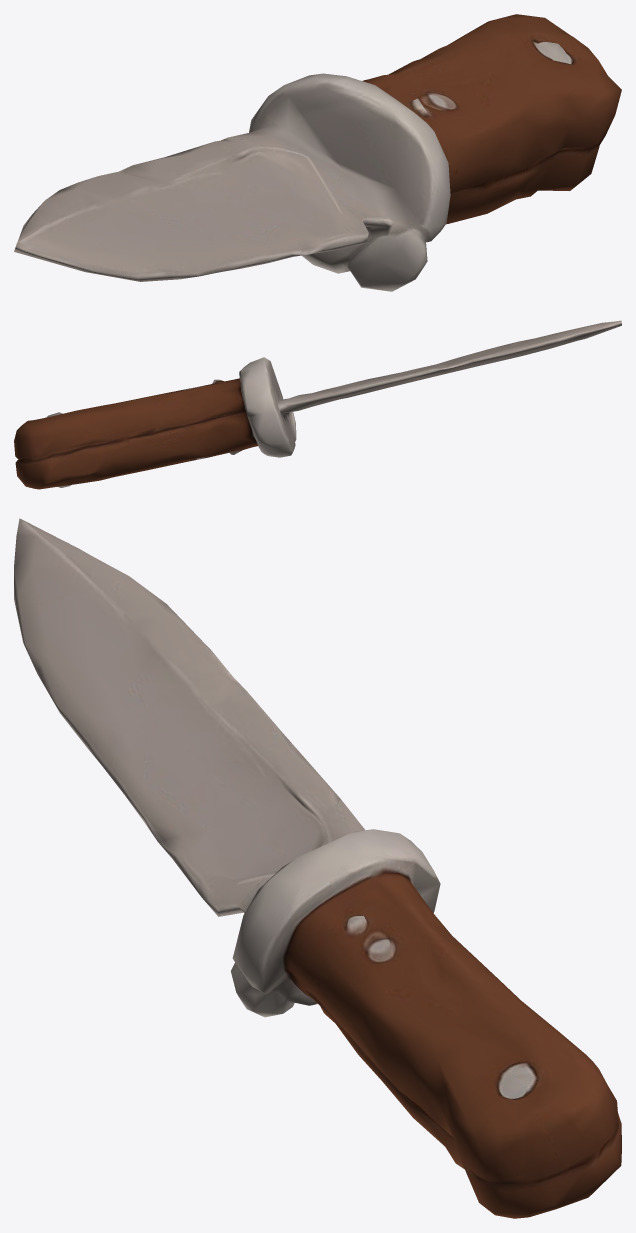
Rendered from knife.glb.
The picture shows the model from 3 angles, top to bottom: view 1: azimuth 30°, elevation 25°; view 2: azimuth 150°, elevation 25°; view 3: azimuth 270°, elevation 25°; orthographic projection. The views are drawn at different scales.
Visible parts, largest first — view 1: tripo_node_389072fd-8961-4271-b918-5e620998d5a2; view 2: tripo_node_389072fd-8961-4271-b918-5e620998d5a2; view 3: tripo_node_389072fd-8961-4271-b918-5e620998d5a2.
Boxes of the visible parts, box(x1,y1,x2,y2) form: tripo_node_389072fd-8961-4271-b918-5e620998d5a2: box(14, 14, 621, 291); tripo_node_389072fd-8961-4271-b918-5e620998d5a2: box(14, 320, 621, 489); tripo_node_389072fd-8961-4271-b918-5e620998d5a2: box(14, 518, 621, 1218).
Size of the model in its own units: 1 by 0.3591 by 0.6309.
1 material, 1 textured.
